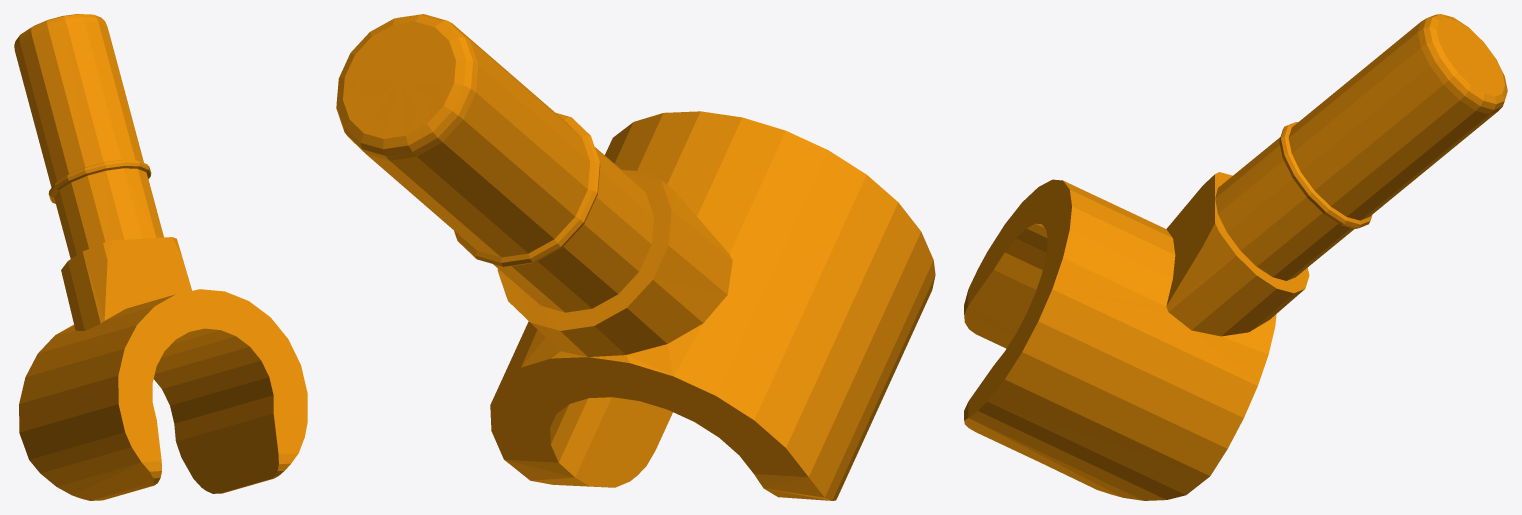
The picture shows the model from 3 angles, left to right: view 1: azimuth 30°, elevation 25°; view 2: azimuth 150°, elevation 25°; view 3: azimuth 270°, elevation 25°; orthographic projection. The views are drawn at different scales.
Visible parts, largest first — view 1: Part.1; view 2: Part.1; view 3: Part.1.
Boxes of the visible parts, x1=… form: Part.1: x1=14, y1=14, x2=307, y2=500; Part.1: x1=336, y1=14, x2=935, y2=500; Part.1: x1=964, y1=14, x2=1507, y2=500.
Bounding box in the file's own units: 5.32 × 9.55 × 10.08.
